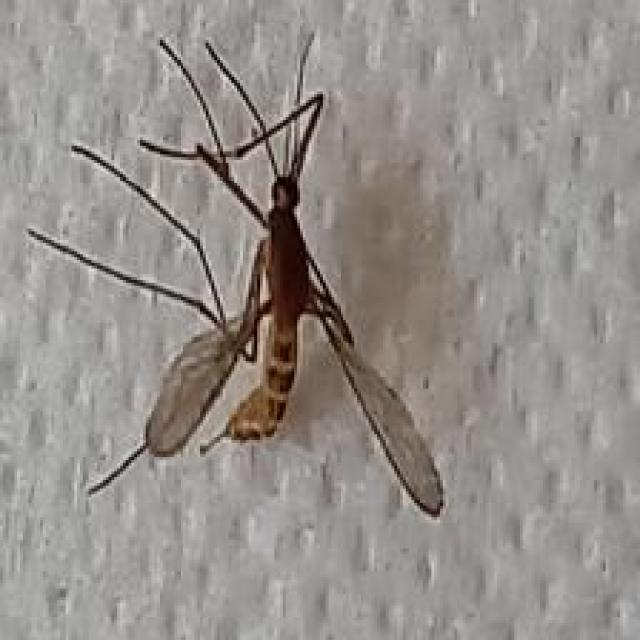Culex: (24, 30, 447, 519)
